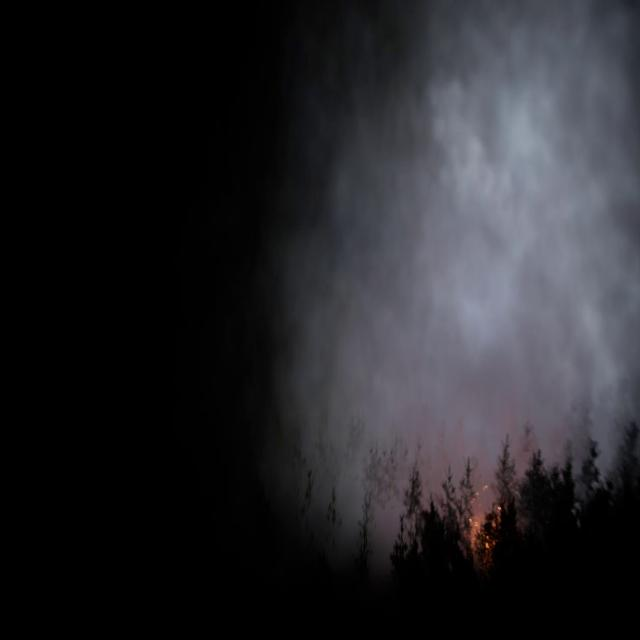fire: (464, 490, 502, 553)
smoke: (273, 0, 639, 564)
